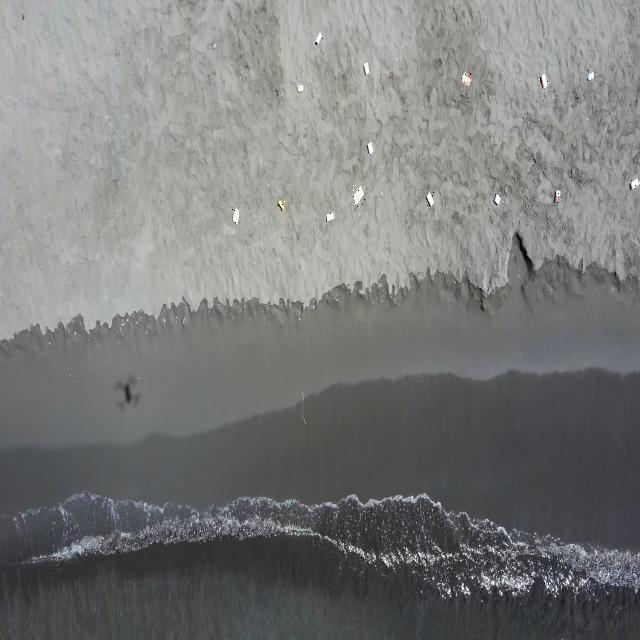retort-pouch: (352, 185, 365, 207), (538, 73, 550, 90), (460, 71, 472, 87), (425, 191, 436, 208), (231, 208, 241, 226), (554, 187, 564, 205), (362, 61, 371, 76), (630, 177, 640, 190), (314, 32, 324, 45), (365, 141, 374, 155), (493, 192, 502, 206), (325, 211, 335, 222), (588, 70, 598, 81), (296, 83, 305, 94), (278, 199, 285, 212)
